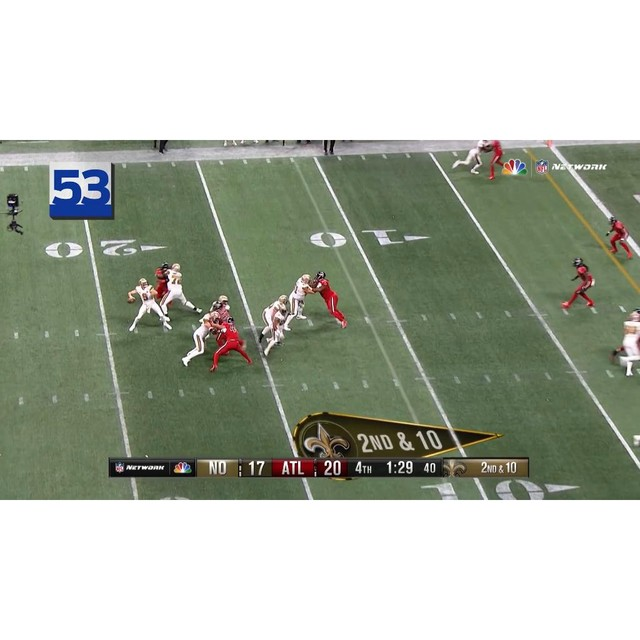american-football-player: (127, 278, 172, 334), (210, 317, 254, 373), (180, 311, 219, 368), (162, 263, 201, 319), (310, 271, 347, 329), (560, 256, 596, 314), (283, 275, 315, 332), (614, 310, 640, 378), (260, 296, 288, 351), (451, 141, 491, 174), (605, 216, 633, 259), (485, 141, 505, 180), (153, 262, 172, 301)
